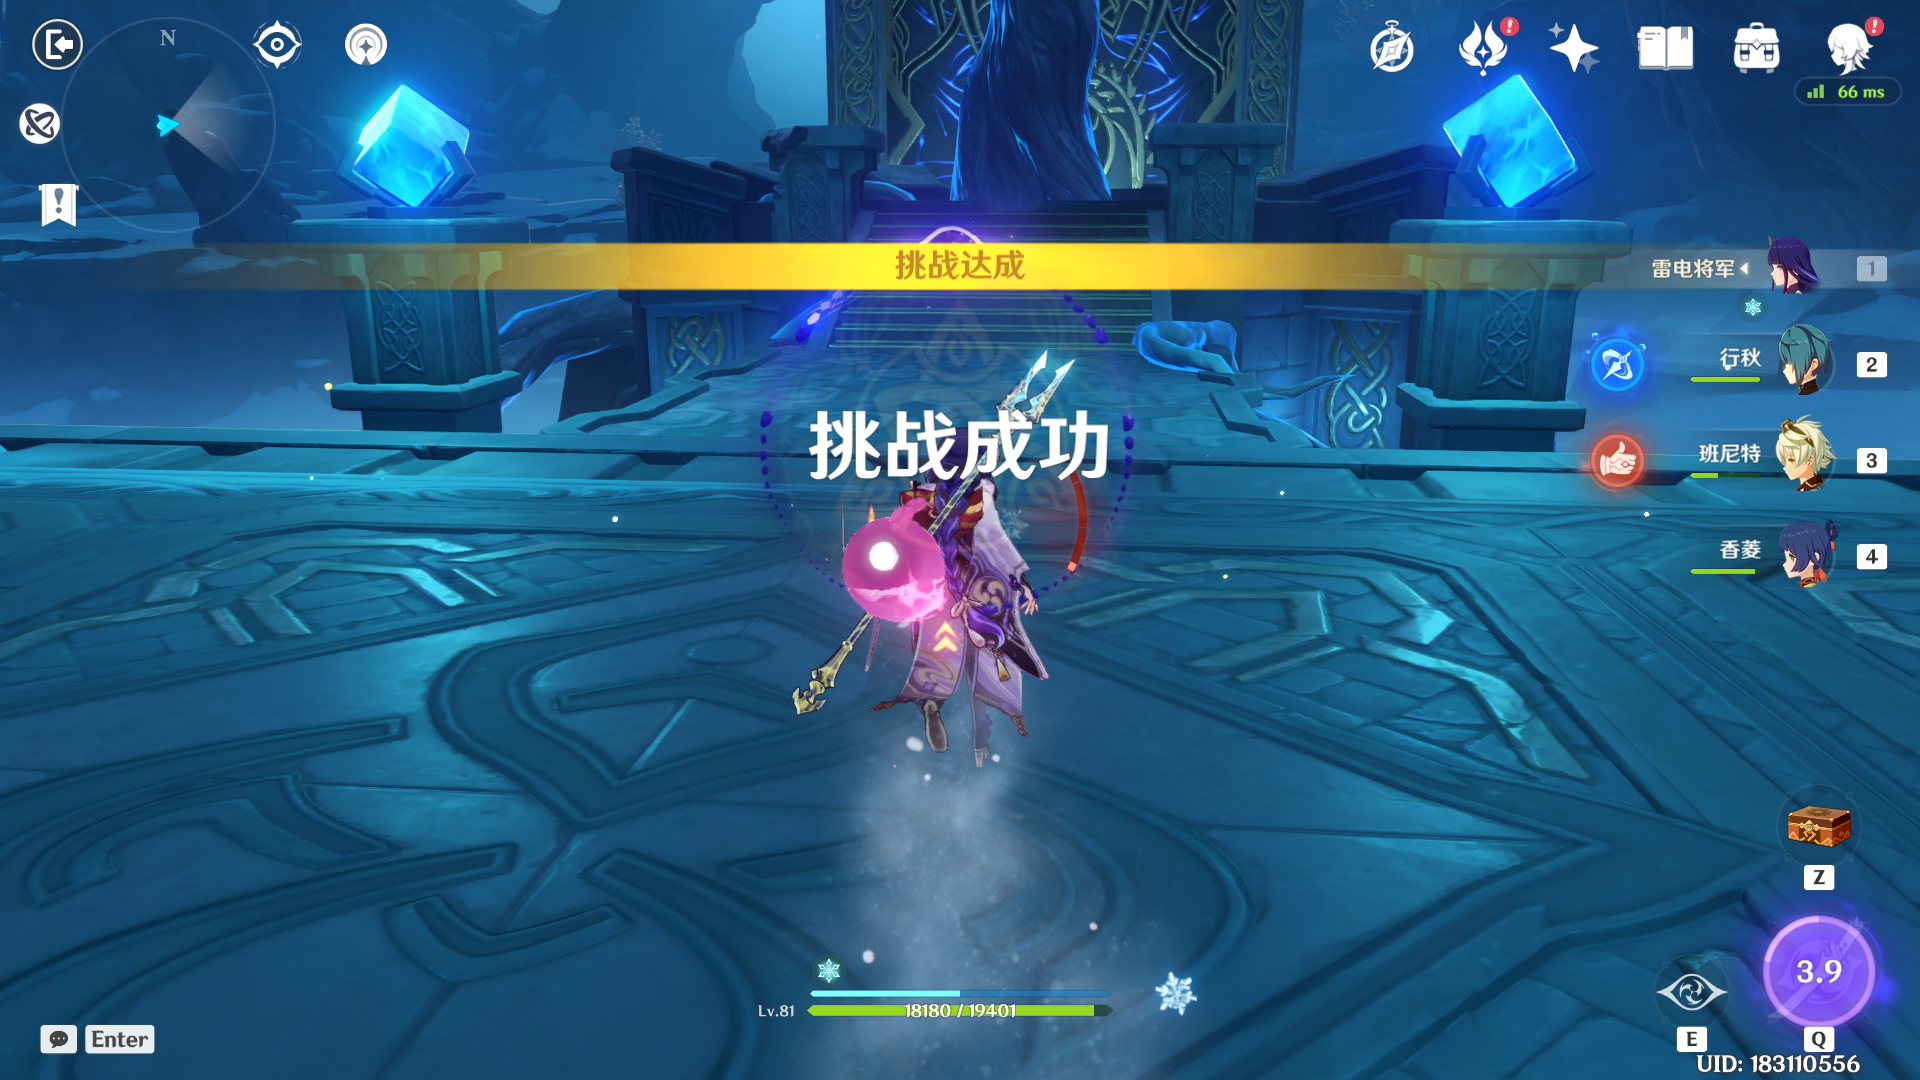character: (832, 375, 1104, 800)
